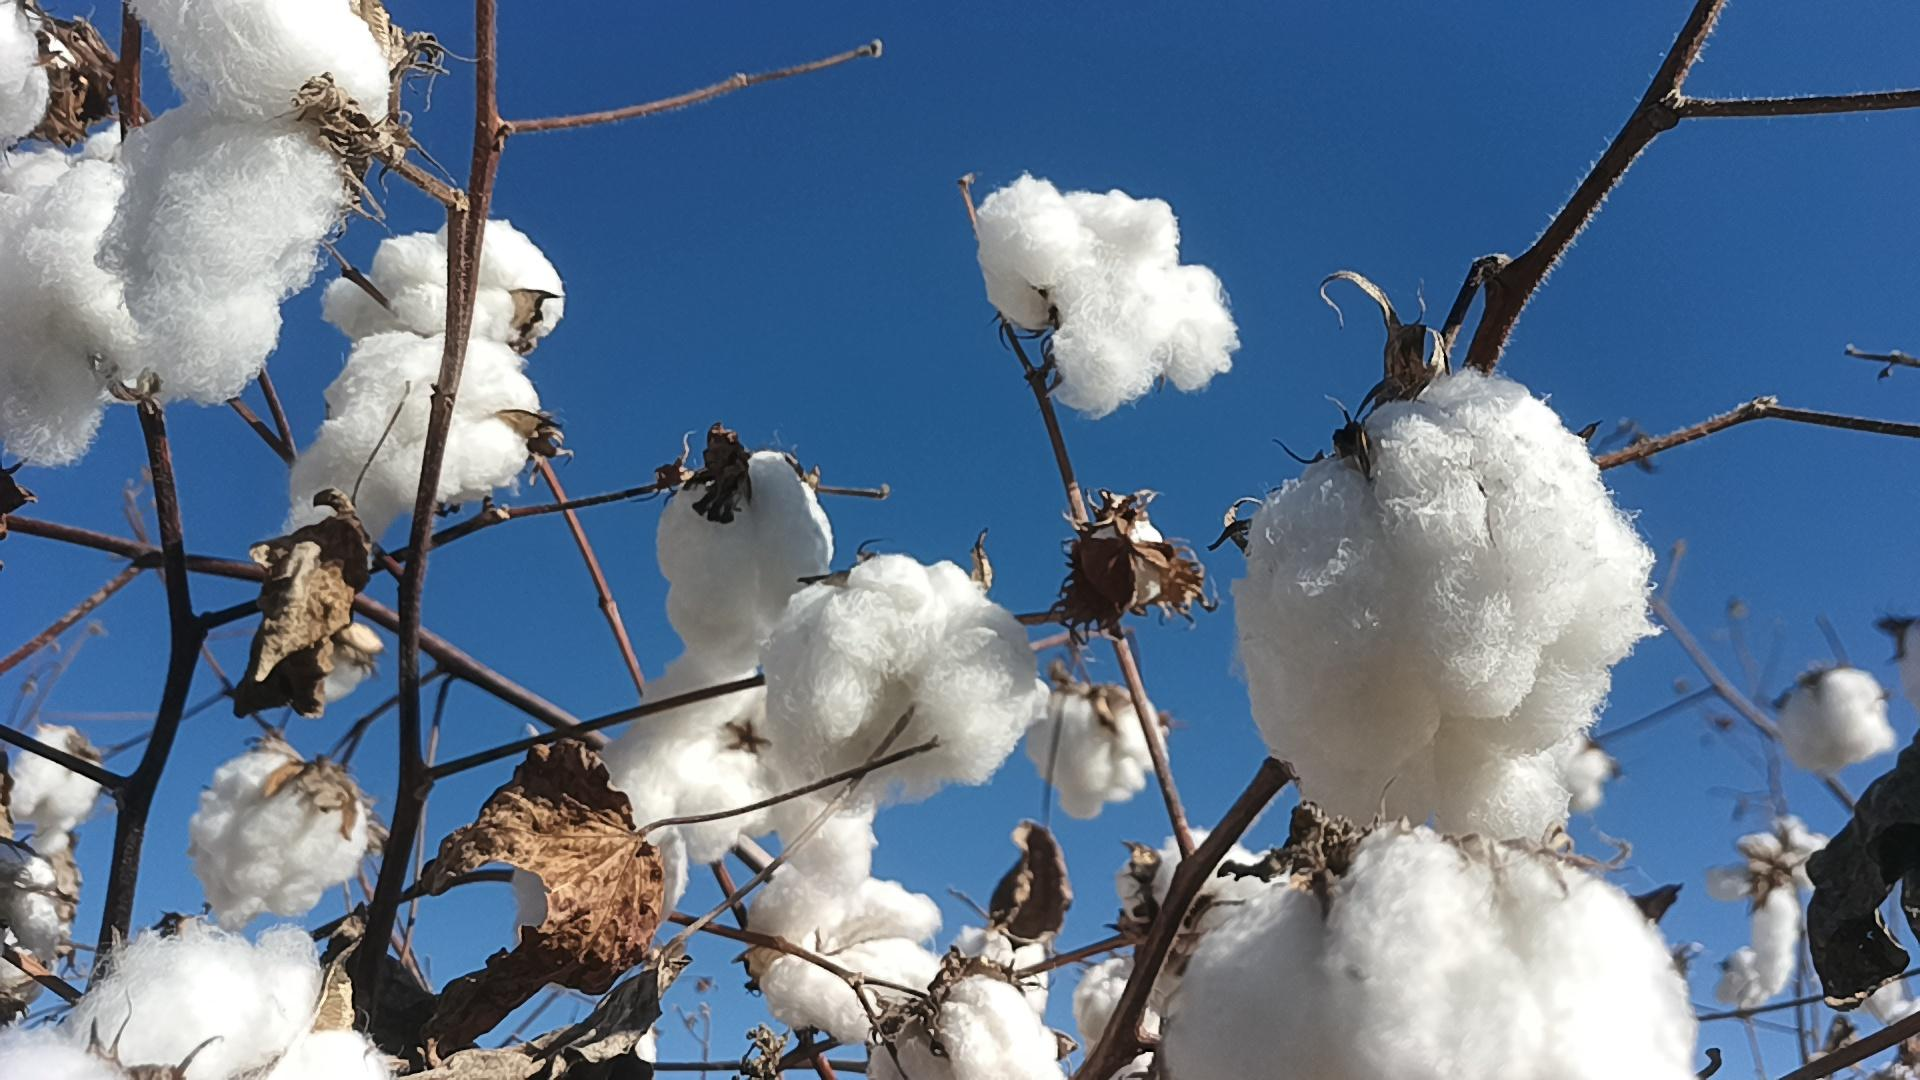cotton_ready: (1232, 365, 1663, 831), (1168, 831, 1696, 1080), (0, 98, 340, 463), (762, 553, 1043, 815), (968, 173, 1238, 415), (0, 926, 390, 1080), (291, 338, 538, 541), (597, 645, 783, 909), (658, 448, 833, 673), (326, 215, 566, 353), (752, 877, 943, 1046), (187, 750, 368, 928), (136, 0, 393, 123), (1114, 837, 1282, 1014), (0, 0, 131, 158), (876, 973, 1068, 1080), (874, 976, 1068, 1080), (1035, 684, 1160, 823), (771, 771, 878, 898), (8, 723, 105, 843), (1077, 957, 1166, 1080), (940, 924, 1054, 1010), (0, 836, 61, 965)
